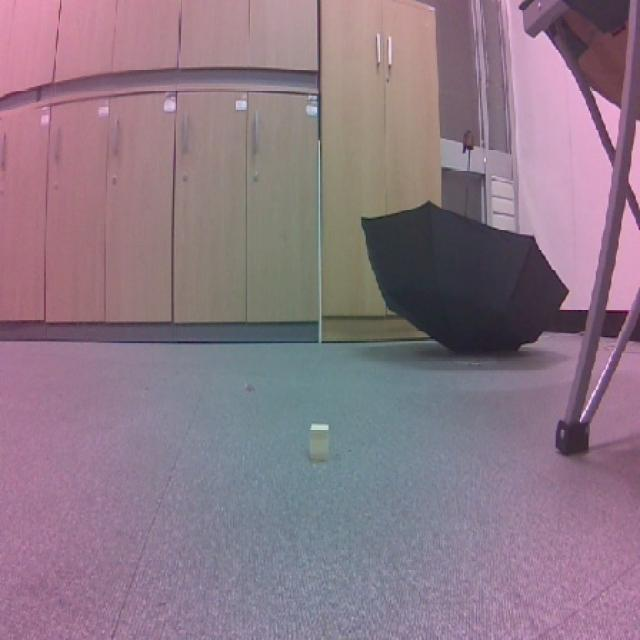obstacle: (304, 421, 340, 466)
